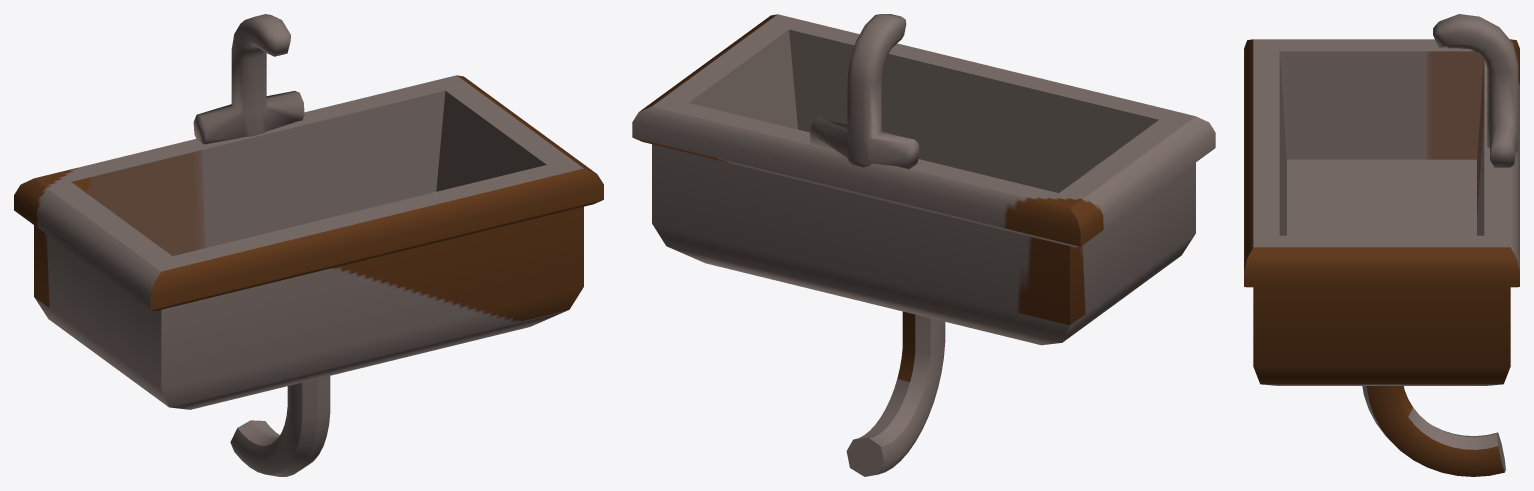
The model's file is Sink.fbx.
The picture shows the model from 3 angles, left to right: view 1: azimuth 30°, elevation 25°; view 2: azimuth 150°, elevation 25°; view 3: azimuth 270°, elevation 25°; orthographic projection. The views are drawn at different scales.
Parts seen in each view (by area): view 1: Sink; view 2: Sink; view 3: Sink.
Boxes of the visible parts, bbox=[...] form: Sink: bbox=[14, 14, 603, 476]; Sink: bbox=[632, 14, 1215, 476]; Sink: bbox=[1244, 14, 1519, 476].
Bounding box in the file's own units: 1.37 × 1.31 × 0.7156.
